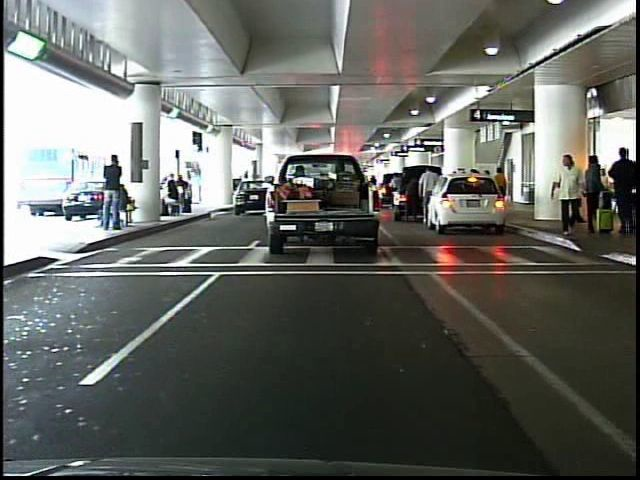person: (548, 144, 585, 239), (608, 147, 635, 235), (581, 152, 605, 240), (105, 151, 129, 233), (416, 161, 442, 230), (492, 163, 512, 217), (191, 167, 204, 210)
